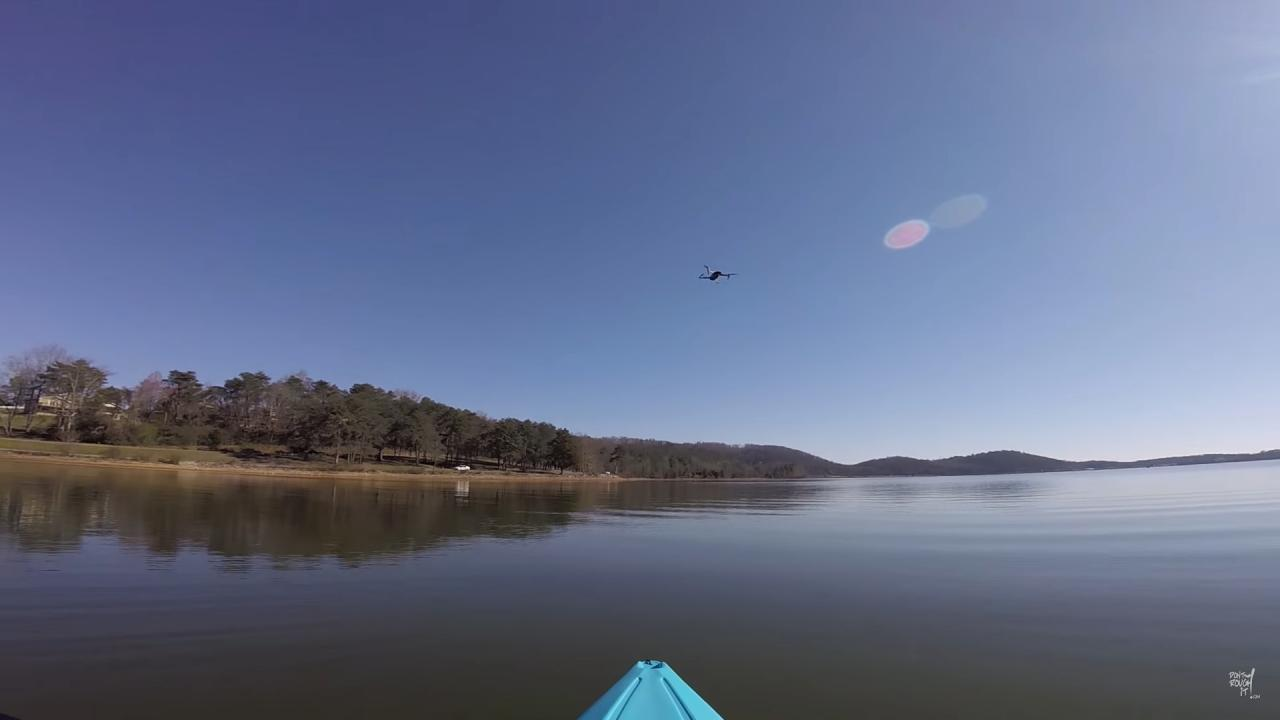Drone: (688, 257, 745, 294)
